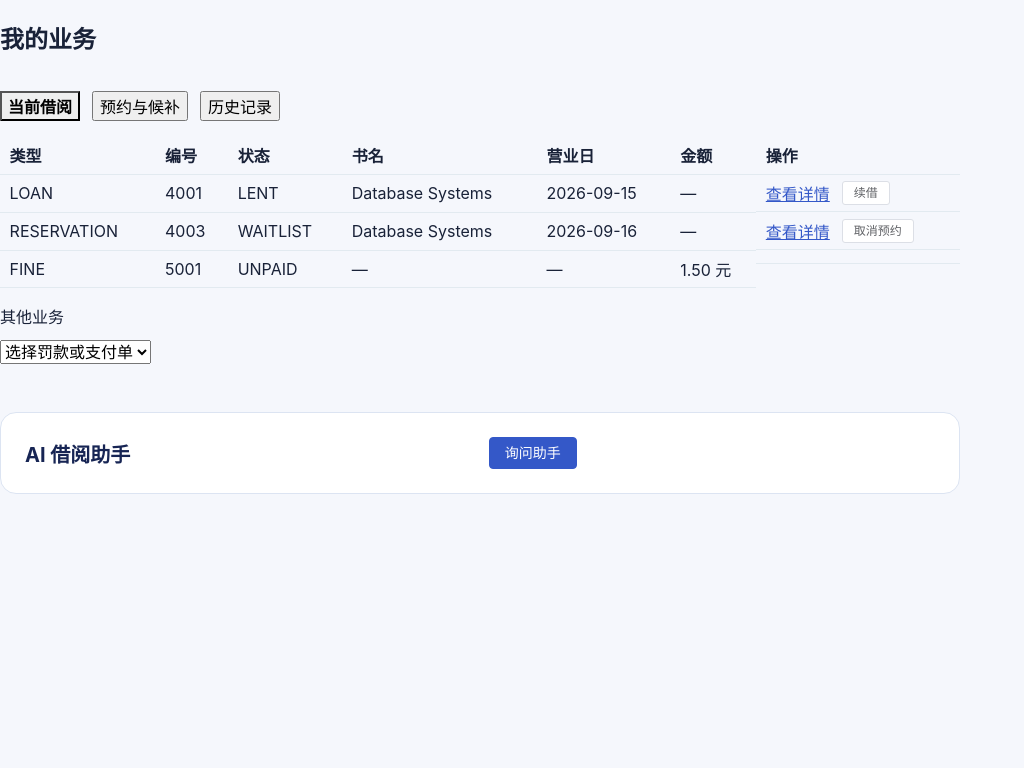
Scenario: MyBusinessView › presents renewal rule rejections as typed failures
Click the button with test id "renew-4001": (866, 193) [842,181,890,205]
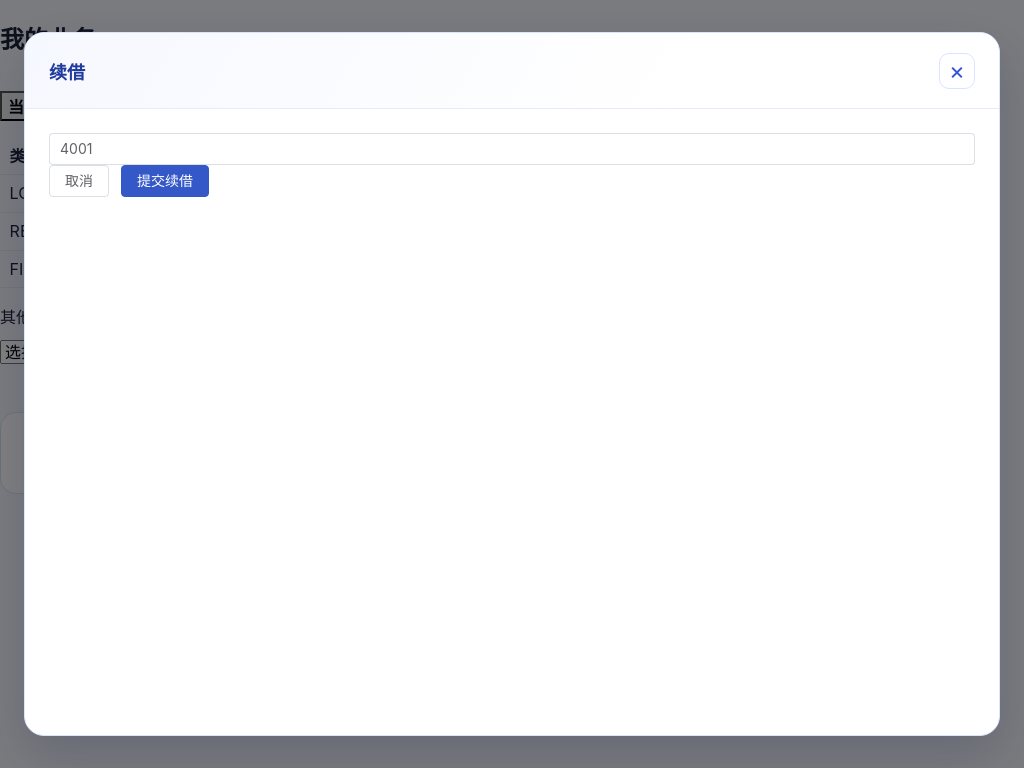
Click the button with test id "renew-modal-submit": (165, 181) [121,165,209,197]
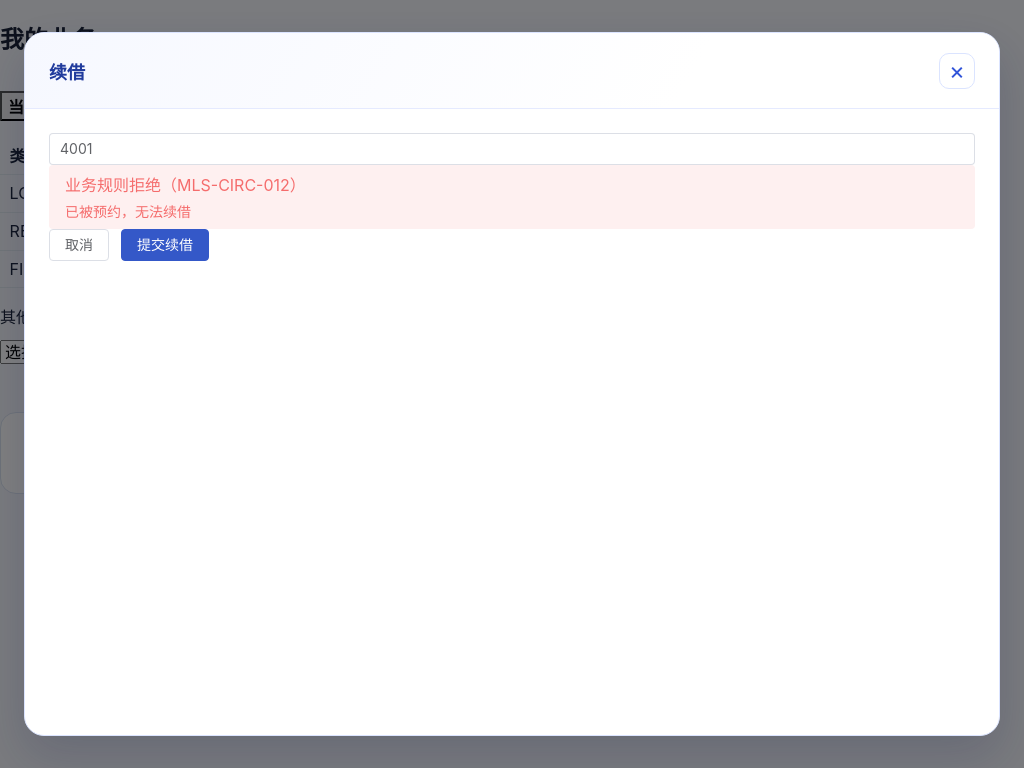
Result: the element with test id "error-alert" shows "MLS-CIRC-012" at [65,175,306,195]
